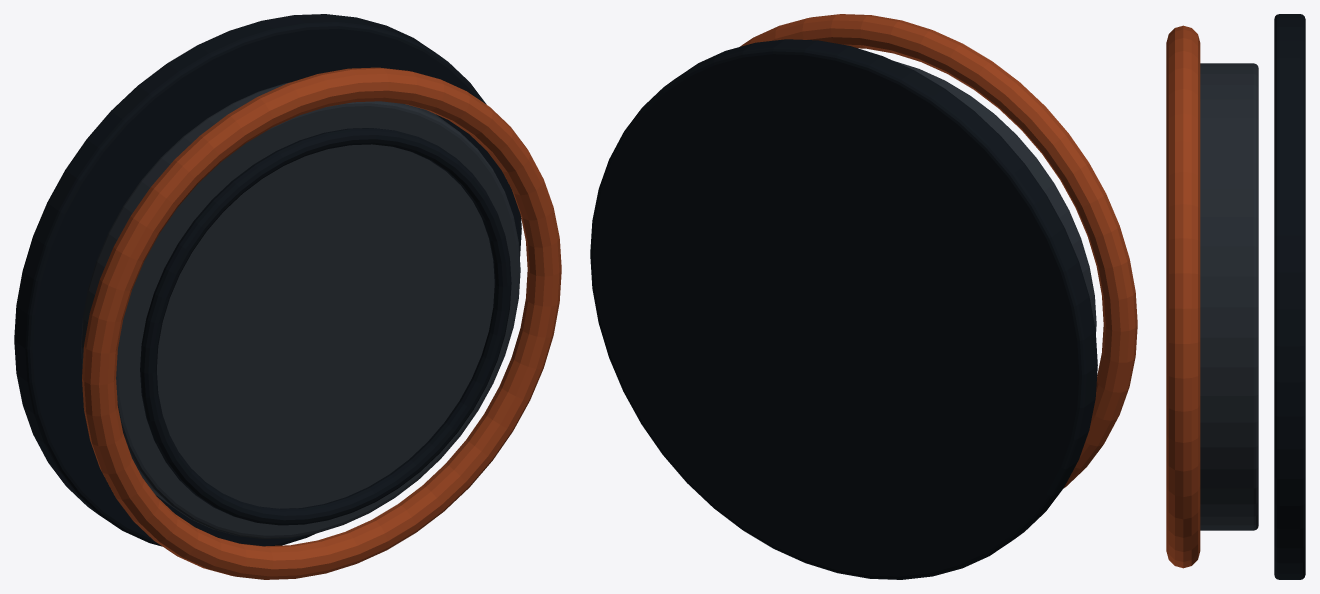
Rendered from k80-jiangchuan-round-pull.glb.
3 views of the same model, side by side, from view 1: azimuth 30°, elevation 25°; view 2: azimuth 150°, elevation 25°; view 3: azimuth 270°, elevation 25° (orthographic).
Parts seen in each view (by area): view 1: Jiangchuan mineral grip disc, Jiangchuan antique bronze rim, Jiangchuan recessed backplate, Jiangchuan inner shadow ring; view 2: Jiangchuan recessed backplate, Jiangchuan antique bronze rim, Jiangchuan mineral grip disc; view 3: Jiangchuan mineral grip disc, Jiangchuan antique bronze rim, Jiangchuan recessed backplate.
Part boxes in pixels (x1,y1,x2,y2): Jiangchuan mineral grip disc: (81,82,520,538); Jiangchuan antique bronze rim: (82,67,561,579); Jiangchuan recessed backplate: (14,14,521,546); Jiangchuan inner shadow ring: (140,128,511,525); Jiangchuan recessed backplate: (590,39,1097,579); Jiangchuan antique bronze rim: (740,14,1137,488); Jiangchuan mineral grip disc: (894,61,1096,331); Jiangchuan mineral grip disc: (1200,63,1258,530); Jiangchuan antique bronze rim: (1166,25,1200,568); Jiangchuan recessed backplate: (1274,14,1305,579).
Size of the model in its own units: 0.218 by 0.218 by 0.0535.
